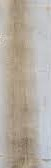Corrosion: (1, 1, 41, 168)
